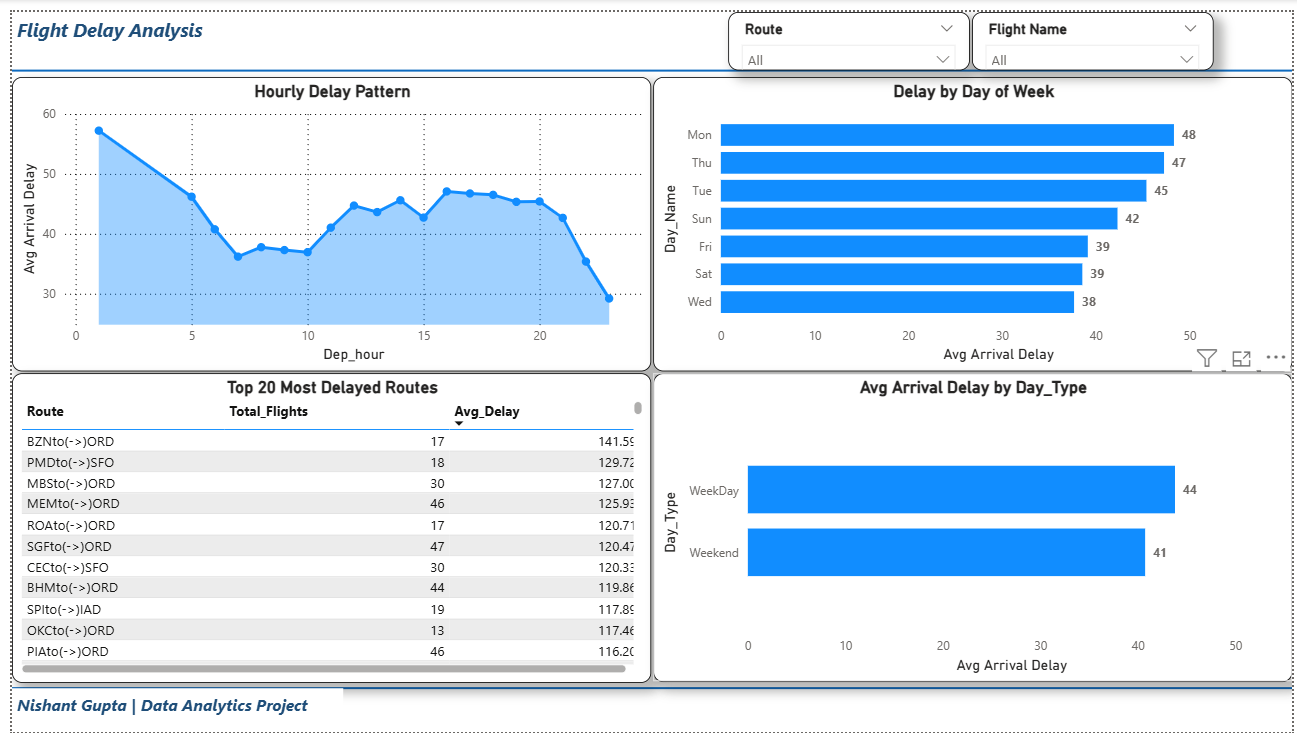

What the dashboard file says about the page in this screenshot:
{"tool":"powerbi","page":{"name":"Time And Route Analysis","canvas":[1280,720],"ordinal":2},"visuals":[{"type":"shape","box":[0,52.6,1280,12.2],"z":0},{"type":"shape","box":[0,670.1,1280.3,12.2],"z":1000},{"type":"lineChart","title":"Hourly Delay Pattern","fields":{"Category":["airline_clean.Dep_hour"],"Y":["KPI.Avg Arrival Delay"]},"box":[0,64.8,639.5,294.7],"z":2000},{"type":"barChart","title":"Delay by Day of Week   ","fields":{"Category":["airline_clean.Day_Name"],"Y":["KPI.Avg Arrival Delay"]},"box":[640.8,64.8,639.5,294.7],"z":3000},{"type":"tableEx","title":"Top 20 Most Delayed Routes","fields":{"Values":["route_summary.Route","route_summary.Total_Flights","route_summary.Avg_Delay"]},"box":[0,360.7,639.5,309.4],"z":4000},{"type":"clusteredBarChart","fields":{"Category":["airline_clean.Day_Type"],"Y":["KPI.Avg Arrival Delay"]},"box":[641,361,639,309],"z":5000},{"type":"textbox","box":[0,676.2,331.2,43.8],"z":5001},{"type":"textbox","box":[0,0,300,52.5],"z":5002},{"type":"slicer","fields":{"Values":["airline_clean.Route"]},"box":[716.2,0,241.2,58.8],"z":5003},{"type":"slicer","fields":{"Values":["airline_clean.UniqueCarrier"]},"box":[960,0,241.2,58.8],"z":5004}]}

Visuals, with their boxes in screenshot pixels (x1, y1, x2, y2), scaled from the page's 1280x720 canvas onto the 1297x733 screenshot:
shape: rect(0, 54, 1296, 66)
shape: rect(0, 682, 1296, 695)
"Hourly Delay Pattern" lineChart: rect(0, 66, 648, 366)
"Delay by Day of Week   " barChart: rect(649, 66, 1296, 366)
"Top 20 Most Delayed Routes" tableEx: rect(0, 367, 648, 682)
clusteredBarChart - airline_clean.Day_Type x KPI.Avg Arrival Delay: rect(650, 368, 1296, 682)
textbox: rect(0, 688, 336, 732)
textbox: rect(0, 0, 304, 53)
slicer - airline_clean.Route: rect(726, 0, 970, 60)
slicer - airline_clean.UniqueCarrier: rect(973, 0, 1217, 60)
